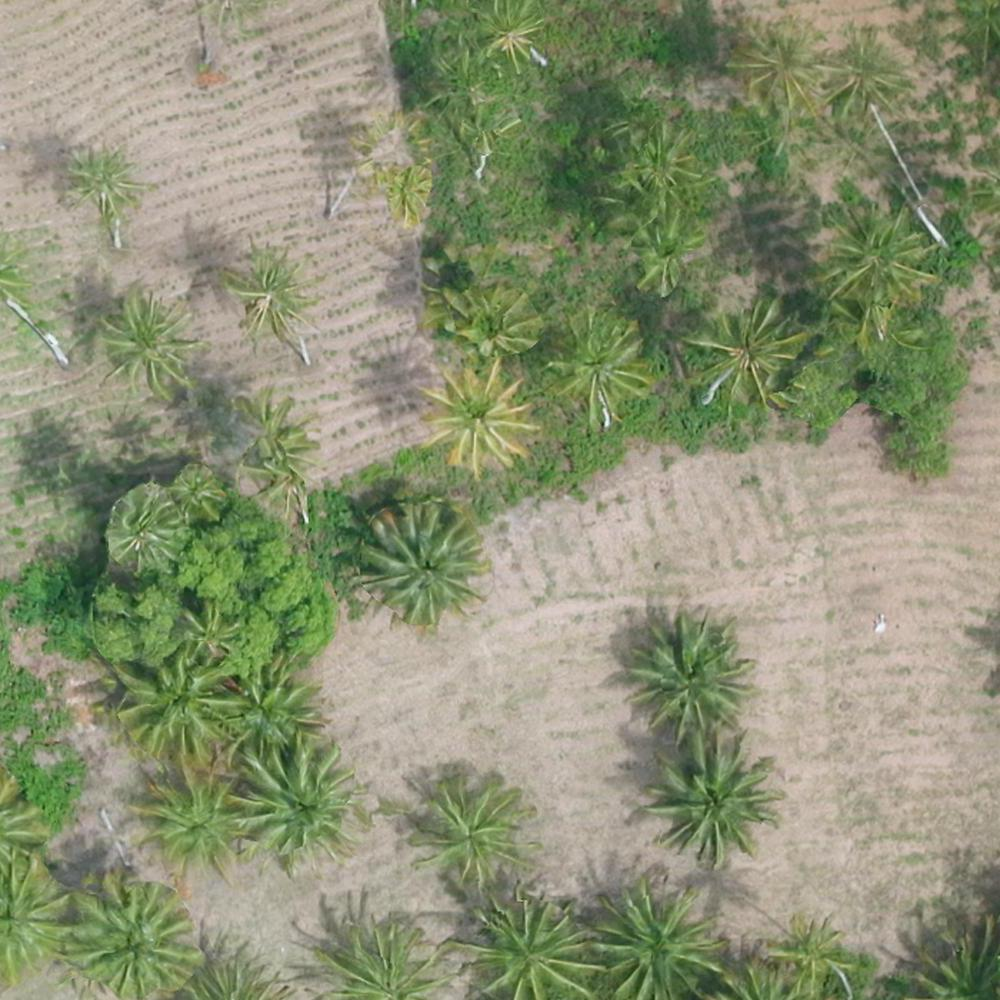Palm: (458, 890, 599, 1000), (649, 734, 772, 859), (594, 885, 722, 996), (68, 880, 192, 994), (631, 619, 744, 738), (240, 747, 352, 862), (366, 504, 478, 614), (114, 651, 228, 758), (416, 776, 527, 880), (420, 365, 528, 468), (97, 289, 197, 395), (691, 301, 793, 402), (140, 766, 238, 871), (551, 312, 646, 412), (827, 209, 926, 302), (220, 667, 319, 757), (325, 925, 441, 1000), (225, 245, 317, 336), (63, 145, 145, 224), (620, 209, 698, 283), (178, 594, 238, 663)
